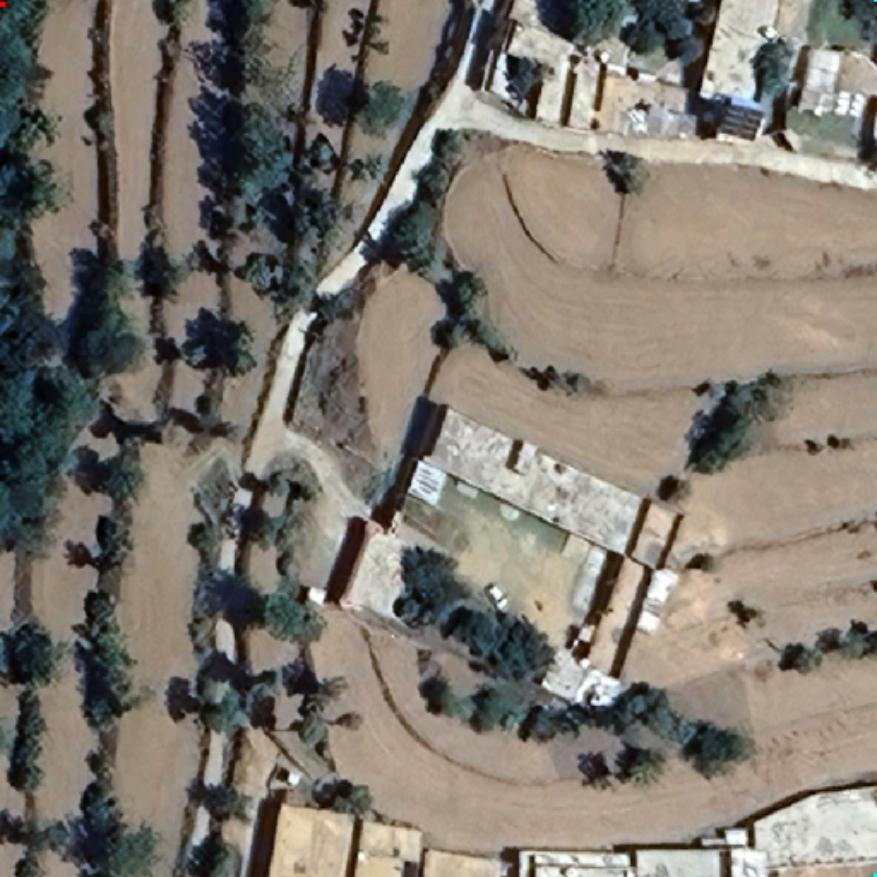Solarpanel: (714, 98, 768, 143)
